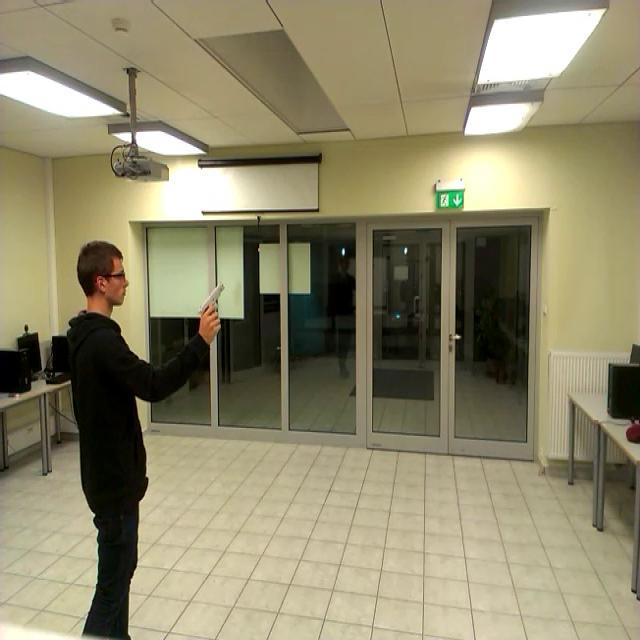Gun: (188, 276, 234, 329)
